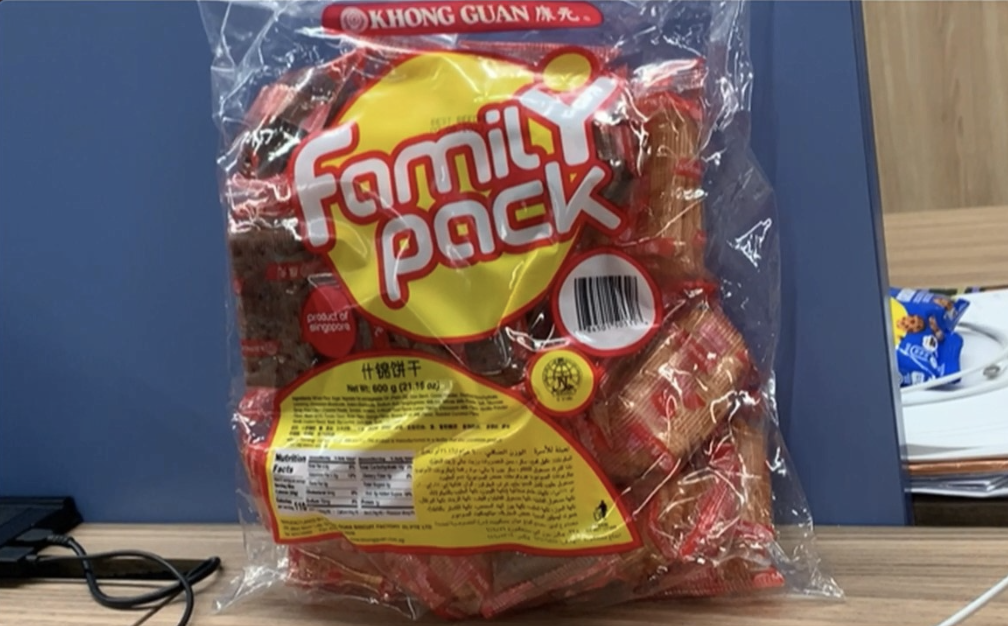cookies_600g-699g: (265, 67, 711, 560)
